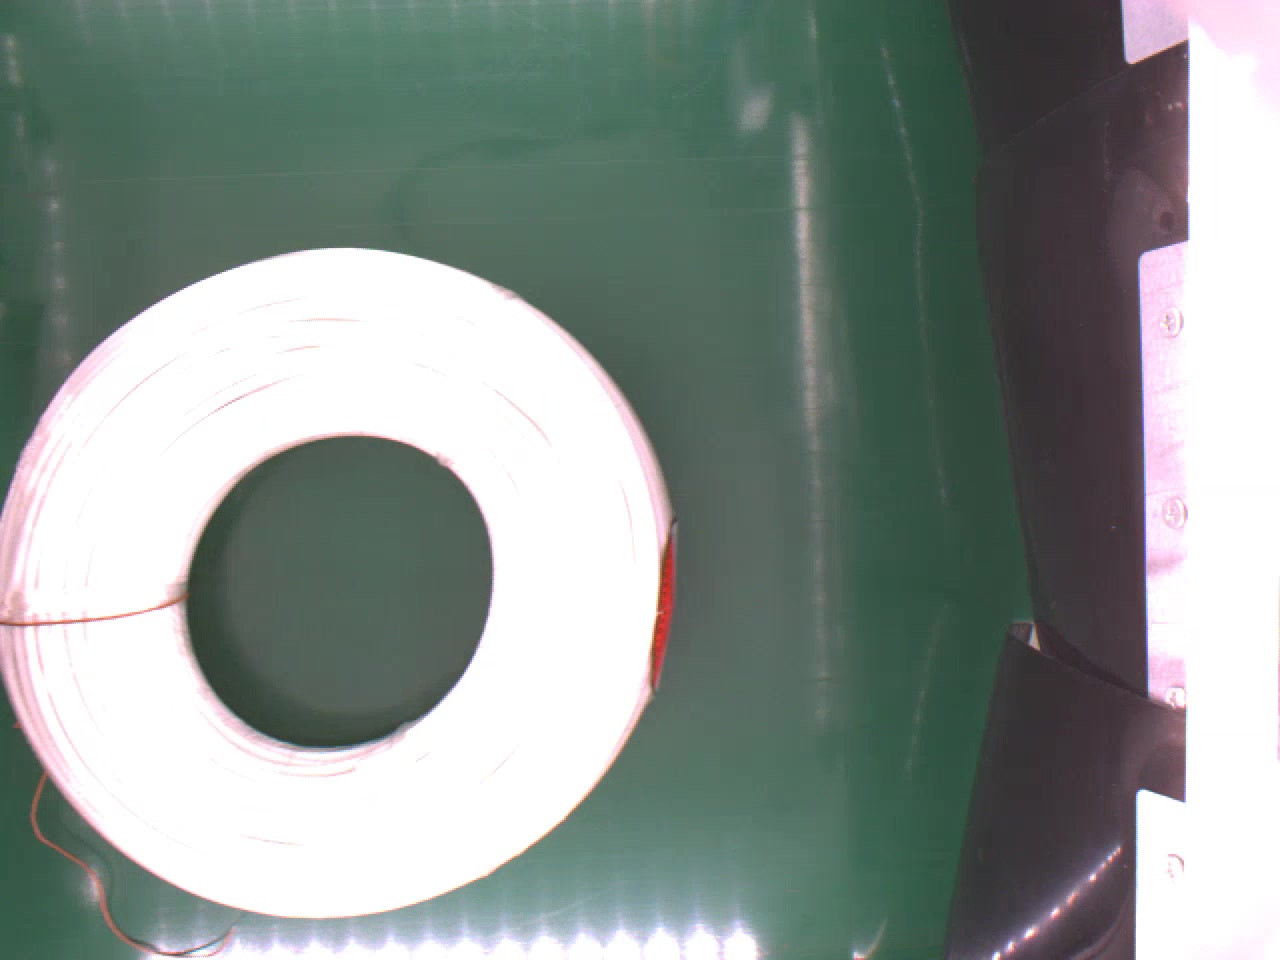white: (1, 242, 679, 913)
